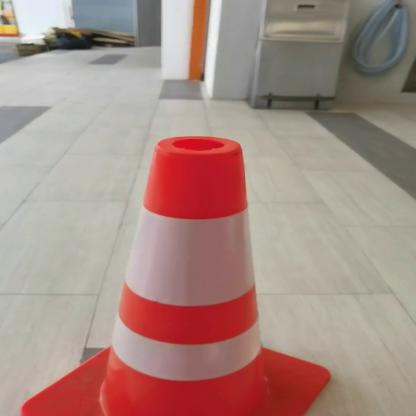cone: (11, 119, 333, 416)
